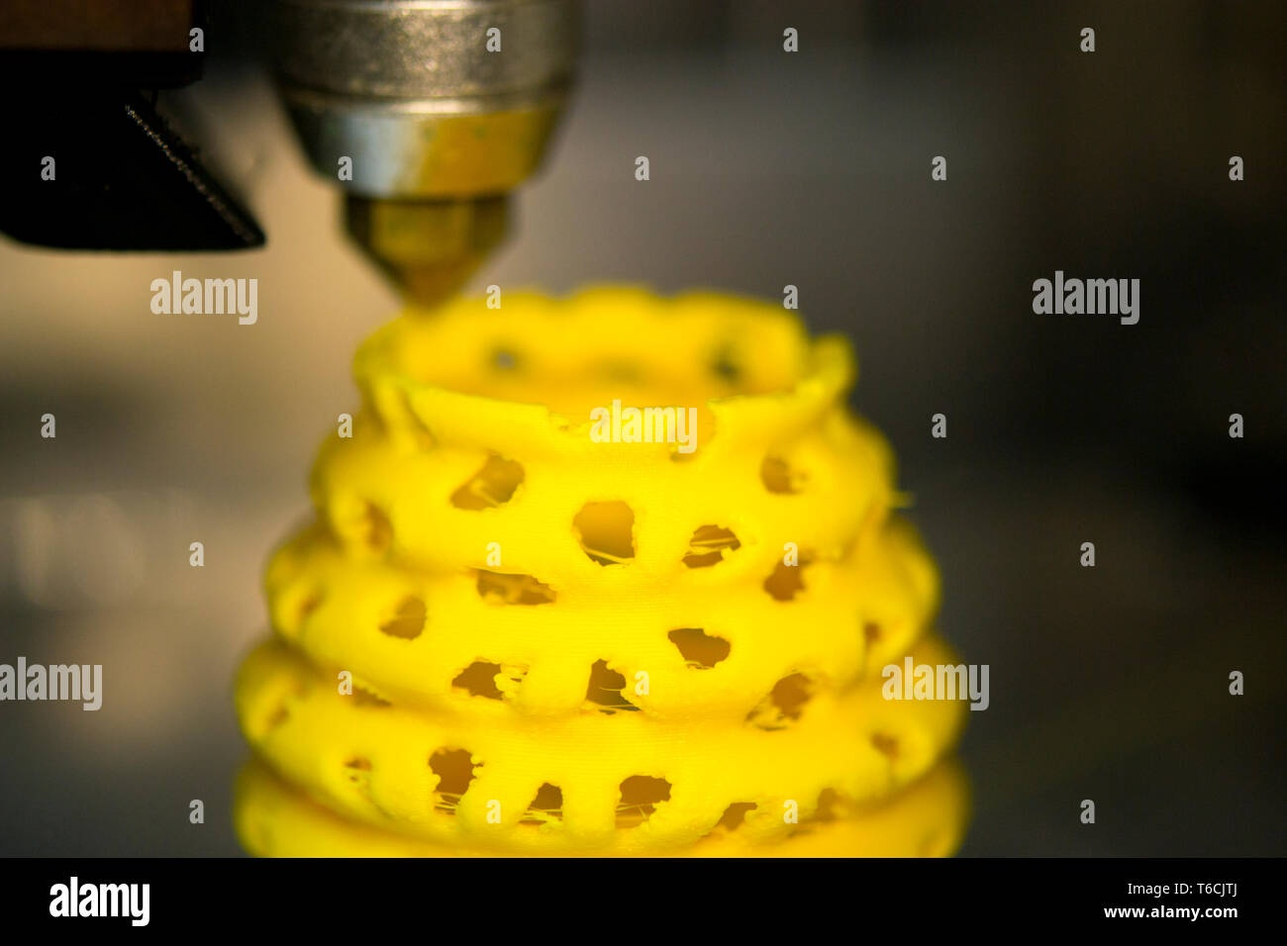3d print: (237, 292, 974, 855)
